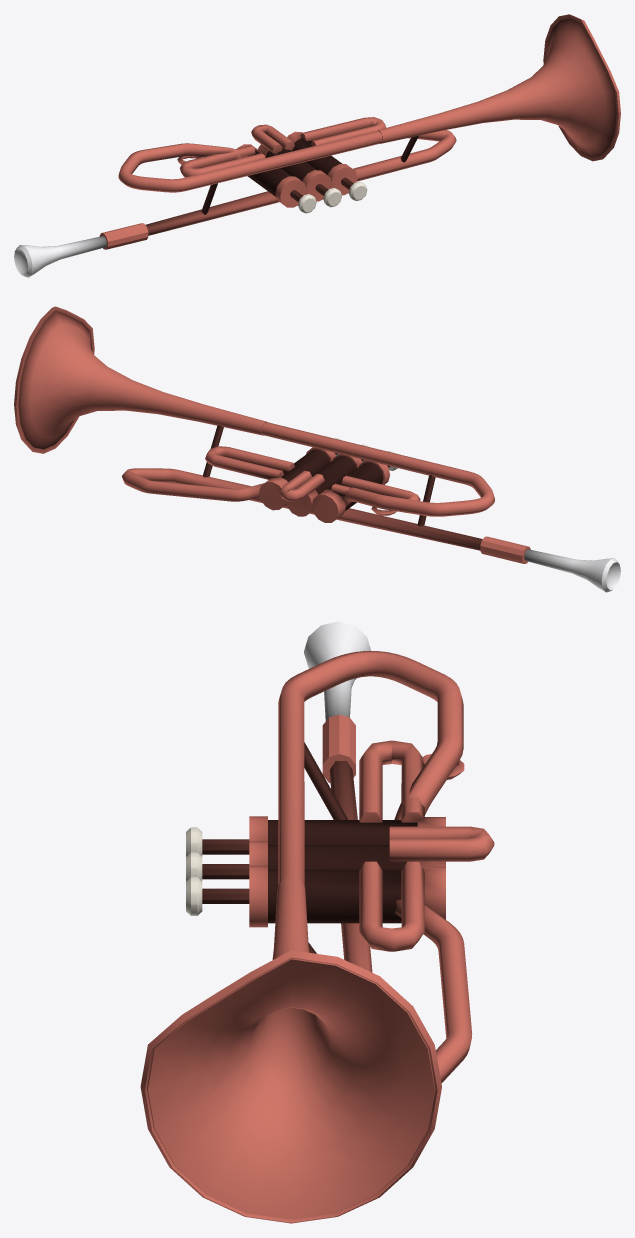
File: junk_trumpet.glb
3 renders of one model, top to bottom at view 1: azimuth 30°, elevation 25°; view 2: azimuth 150°, elevation 25°; view 3: azimuth 270°, elevation 25°, orthographic. The views are drawn at different scales.
Parts seen in each view (by area): view 1: PART; view 2: PART; view 3: PART.
Part boxes in pixels (left/top/right/bottom): PART: left=14, top=14, right=620, bottom=277; PART: left=14, top=306, right=620, bottom=592; PART: left=140, top=621, right=494, bottom=1223.
Bounding box in the file's own units: 0.5007 × 0.1185 × 0.1391.
